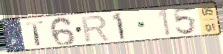1: (111, 12, 128, 41), (157, 8, 172, 37)
5: (171, 5, 199, 35)
6: (48, 15, 78, 47)
R: (80, 14, 111, 43)
T: (24, 19, 46, 47)
